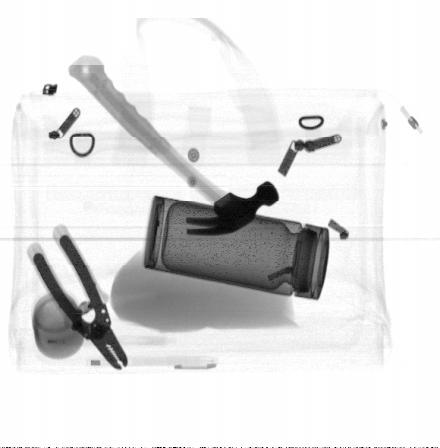Hammer: (68, 54, 281, 237)
Pliers: (26, 224, 128, 369)
